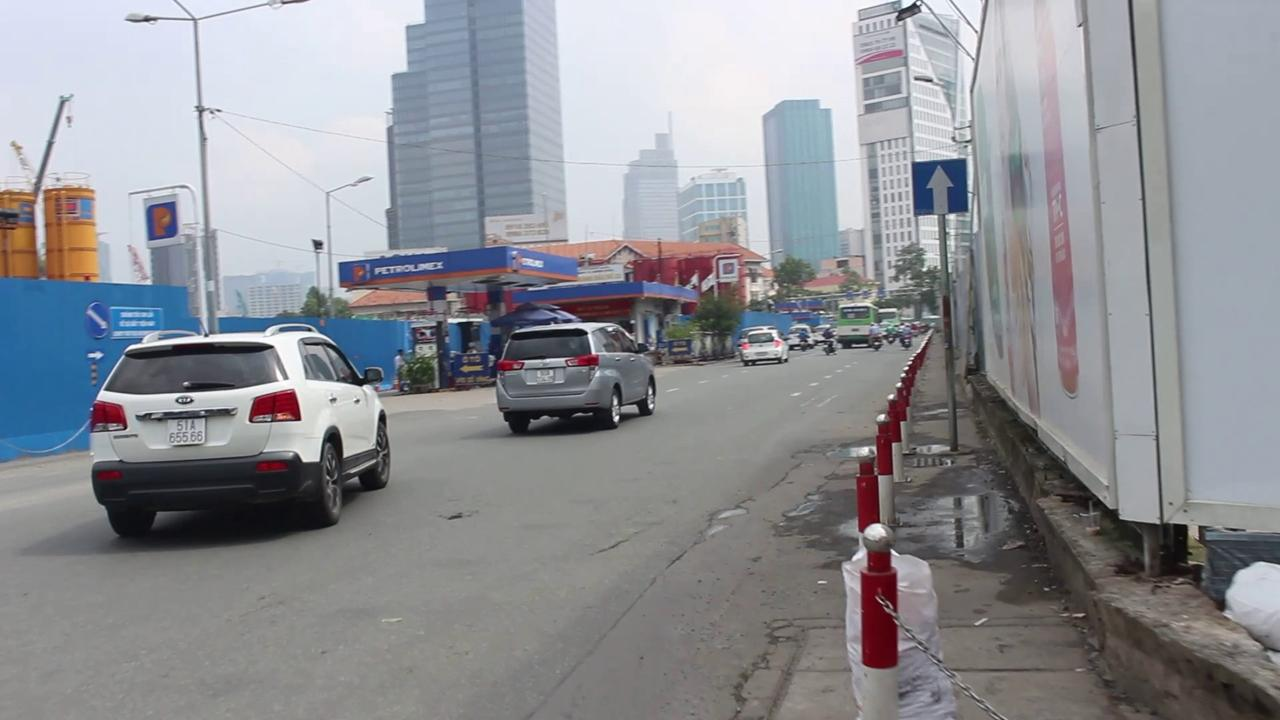P.124c: (914, 157, 964, 213)
